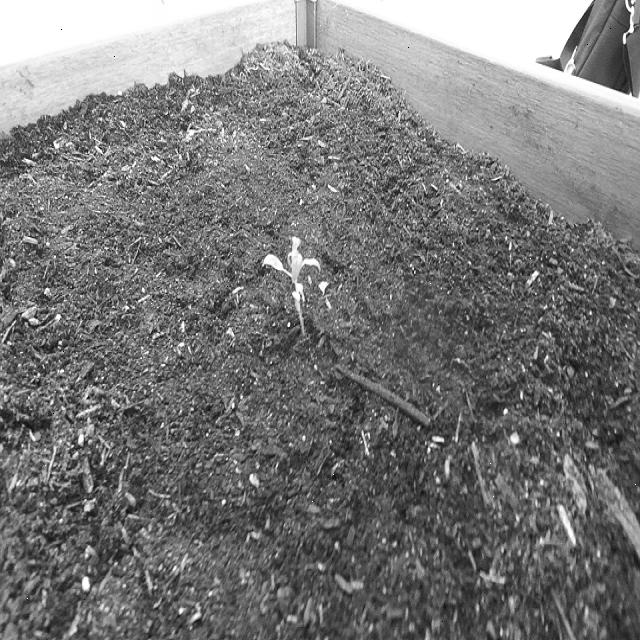Healthy: (256, 228, 326, 352)
